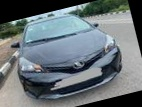car: (4, 1, 130, 107)
